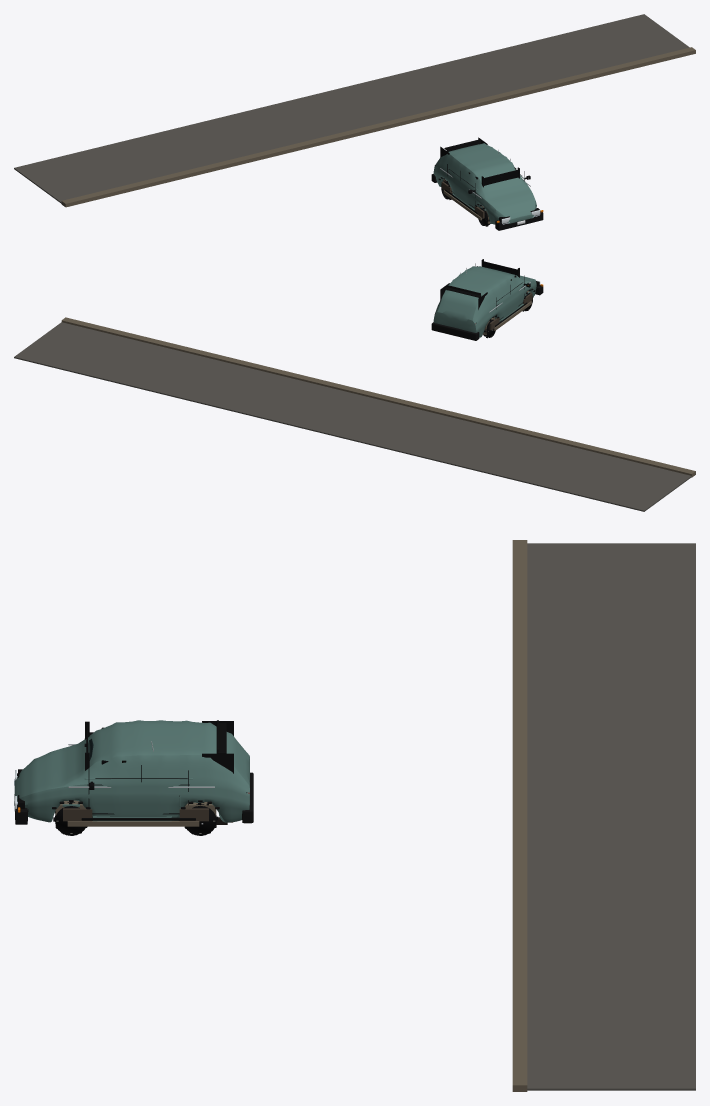
File: hm_civ_hatch_v3.obj
The picture shows the model from 3 angles, top to bottom: view 1: azimuth 30°, elevation 25°; view 2: azimuth 150°, elevation 25°; view 3: azimuth 270°, elevation 25°; orthographic projection. The views are drawn at different scales.
Parts seen in each view (by area): view 1: ground_walk, ground_curb, Hatch_Body; view 2: ground_walk, Hatch_Body, ground_curb, Hatch_rbump; view 3: ground_walk, Hatch_Body, ground_curb.
Part boxes in pixels (<box>): ground_walk: <box>14,14,689,204</box>; ground_curb: <box>61,47,695,207</box>; Hatch_Body: <box>433,143,536,224</box>; ground_walk: <box>14,322,691,511</box>; Hatch_Body: <box>433,266,536,337</box>; ground_curb: <box>61,317,695,477</box>; Hatch_rbump: <box>431,322,479,340</box>; ground_walk: <box>527,543,695,1090</box>; Hatch_Body: <box>14,720,249,822</box>; ground_curb: <box>512,540,527,1091</box>.
Bounding box in the file's own units: 22 × 1.73 × 11.63.
